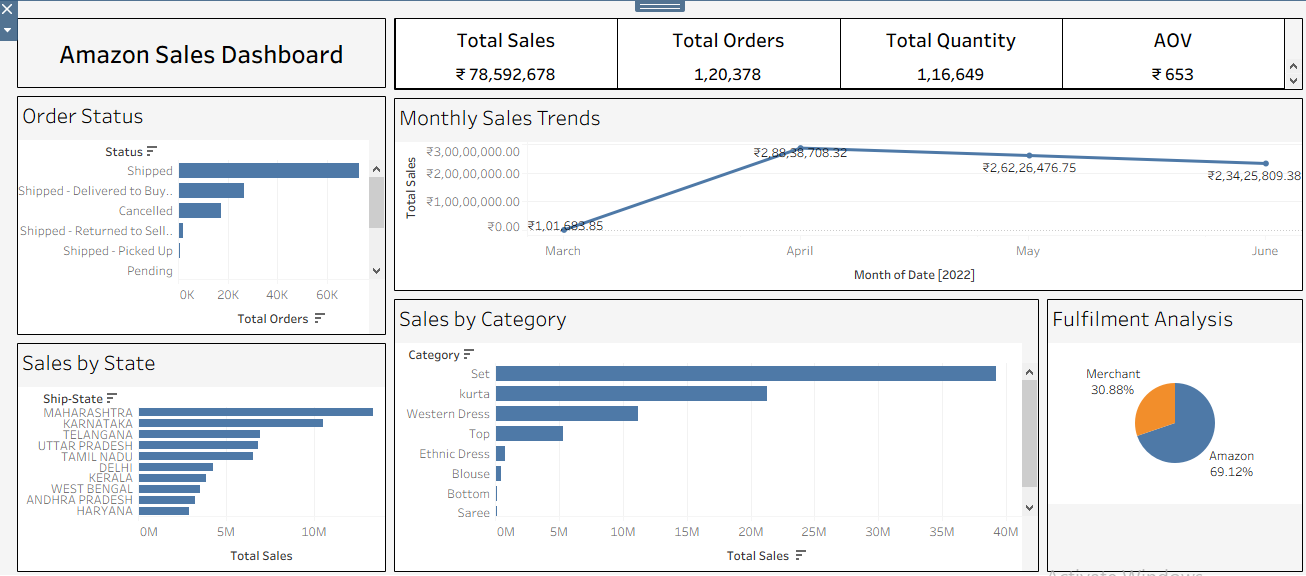

This screenshot's page, from the dashboard's own definition file:
{"tool":"tableau","page":{"name":"Amazon Sales Dashboard","canvas":[1000,1000],"units":"permille","ordinal":0},"visuals":[{"type":"text","box":[11.3,25.3,285,131.8]},{"type":"worksheet","title":"KPIs","mark":"Automatic","box":[296.4,25.3,692.3,135.1]},{"type":"worksheet","title":"Order Status","mark":"Bar","rows":["Status"],"cols":["Calculation_0733388510326785"],"box":[11.3,157.2,285,417.2]},{"type":"worksheet","title":"Monthly Sales Trends","mark":"Line","rows":["Calculation_0733388509982720"],"cols":["Date"],"box":[296.4,160.5,692.3,339.5]},{"type":"worksheet","title":"Sales by Category","mark":"Bar","rows":["Category"],"cols":["Calculation_0733388509982720"],"box":[296.4,500,492.9,474.7]},{"type":"worksheet","title":"Fulfilment Analysis","mark":"Pie","box":[789.3,500,199.4,474.7]},{"type":"worksheet","title":"Sales by State","mark":"Bar","rows":["ship-state"],"cols":["Calculation_0733388509982720"],"box":[11.3,574.4,285,400.2]}]}

Visuals, with their boxes on the dashboard's canvas, which has no fixed pixel size, in thousandths of its width and height (x1, y1, x2, y2). These are canvas units, not pixel positions in the 1306x576 screenshot, which may show the page scaled, cropped or inside an application window:
text: pyautogui.locateOnScreen(11, 25, 296, 157)
"KPIs" worksheet: pyautogui.locateOnScreen(296, 25, 989, 160)
"Order Status" worksheet (Bar marks): pyautogui.locateOnScreen(11, 157, 296, 574)
"Monthly Sales Trends" worksheet (Line marks): pyautogui.locateOnScreen(296, 160, 989, 500)
"Sales by Category" worksheet (Bar marks): pyautogui.locateOnScreen(296, 500, 789, 975)
"Fulfilment Analysis" worksheet (Pie marks): pyautogui.locateOnScreen(789, 500, 989, 975)
"Sales by State" worksheet (Bar marks): pyautogui.locateOnScreen(11, 574, 296, 975)
